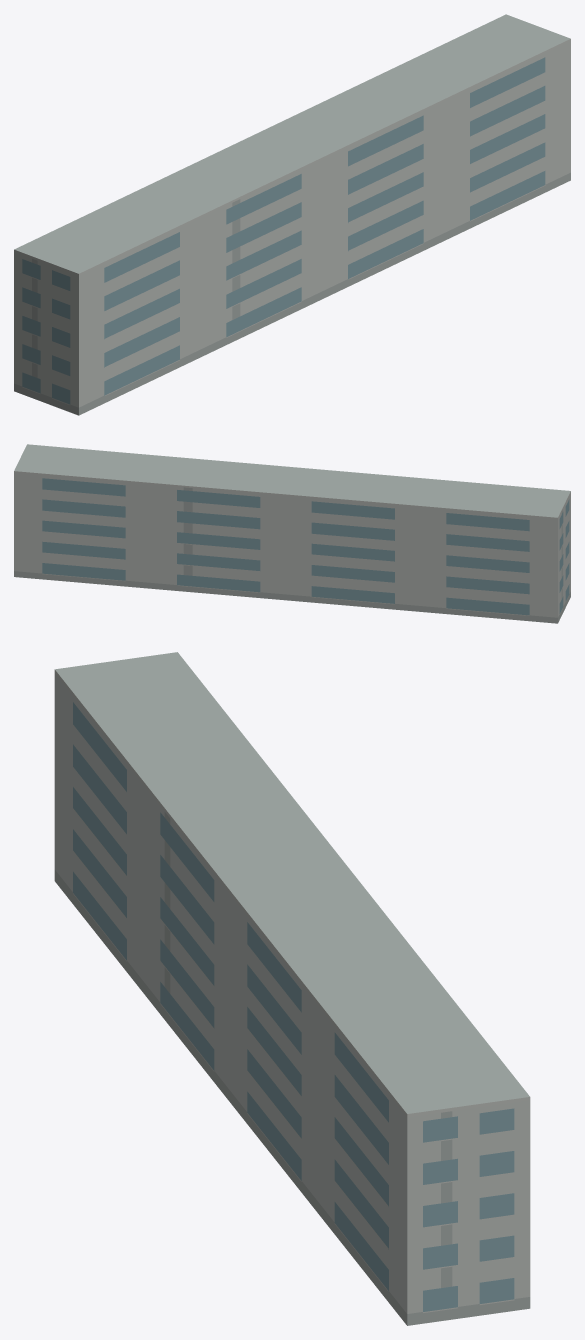
Rendered from survey-upis-32766754.glb.
3 renders of one model, top to bottom at view 1: azimuth 30°, elevation 25°; view 2: azimuth 150°, elevation 25°; view 3: azimuth 270°, elevation 25°, orthographic. The views are drawn at different scales.
Parts seen in each view (by area): view 1: survey-upis-32766754.tmp; view 2: survey-upis-32766754.tmp; view 3: survey-upis-32766754.tmp.
Boxes of the visible parts, x1,y1,x2,y2 form: survey-upis-32766754.tmp: (14,14,570,415); survey-upis-32766754.tmp: (14,444,570,623); survey-upis-32766754.tmp: (54,652,530,1325).
Size of the model in its own units: 71.36 by 15.25 by 31.04.
